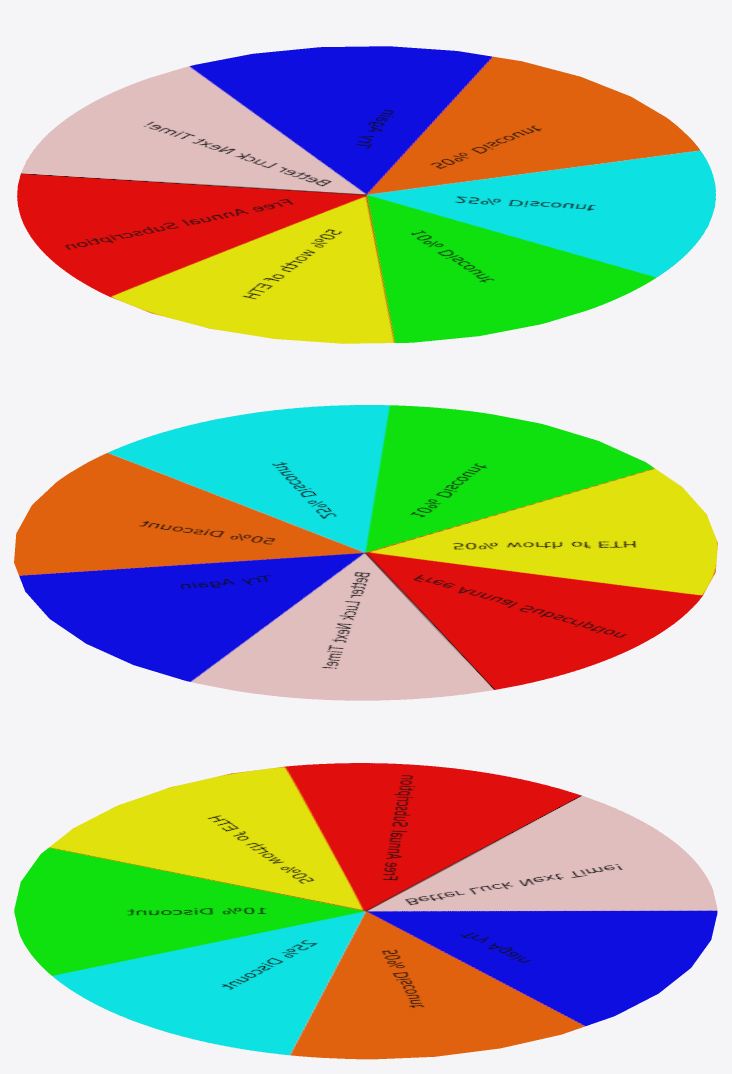
Rendered from wheel_fortune_mesh.fbx.
The picture shows the model from 3 angles, top to bottom: view 1: azimuth 30°, elevation 25°; view 2: azimuth 150°, elevation 25°; view 3: azimuth 270°, elevation 25°; orthographic projection.
Parts seen in each view (by area): view 1: wheel; view 2: wheel; view 3: wheel.
Part boxes in pixels (x1,y1,x2,y2): wheel: [17, 46, 715, 343]; wheel: [14, 405, 717, 700]; wheel: [14, 763, 717, 1059].
Size of the model in its own units: 200 by 10 by 200.
Materials: 1 (1 with a texture image).
